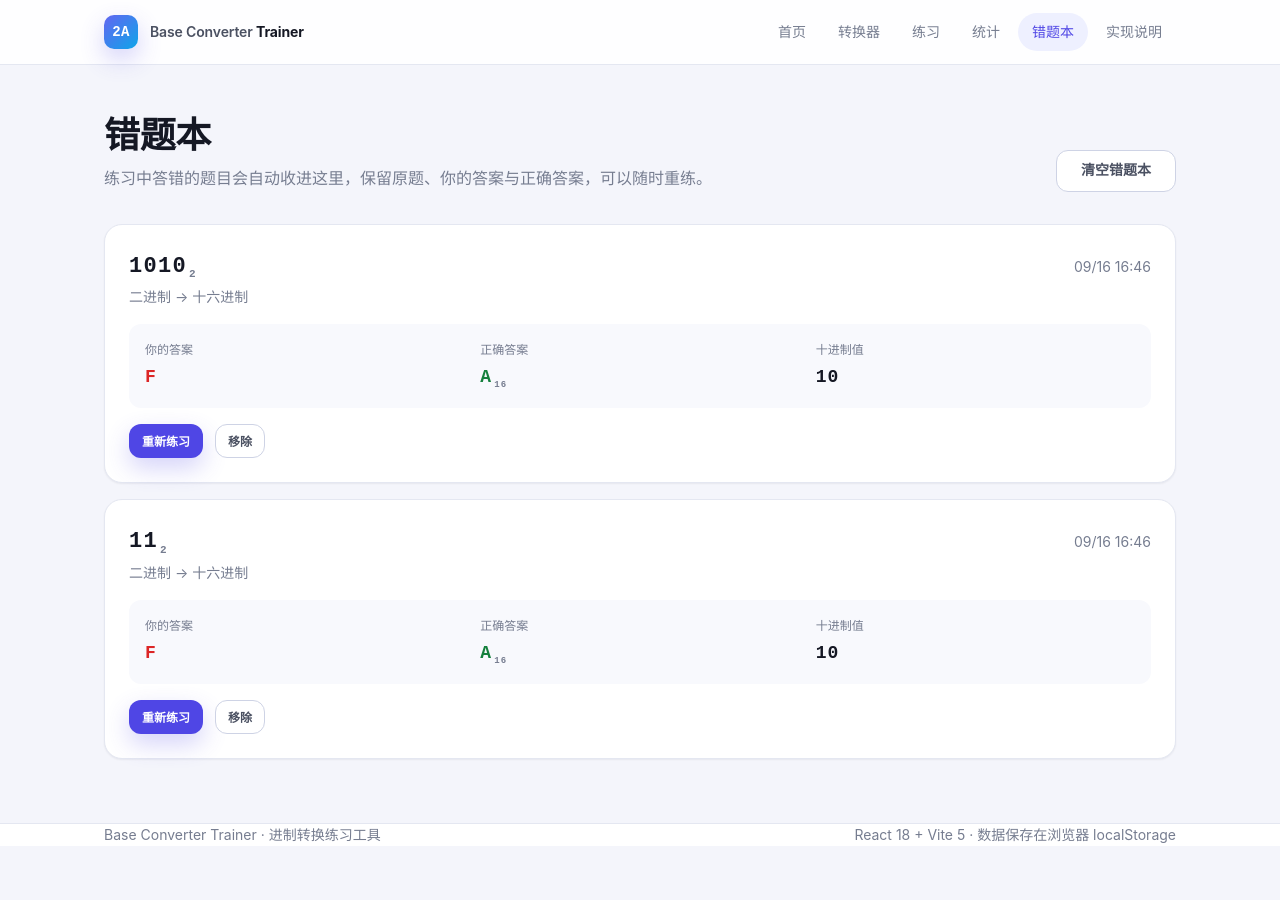
Test: 错题本 · 操作 › 确认清空后错题本与 localStorage 都清空
Click the button "清空错题本": (1116, 171) x1=1056 y1=150 x2=1176 y2=192
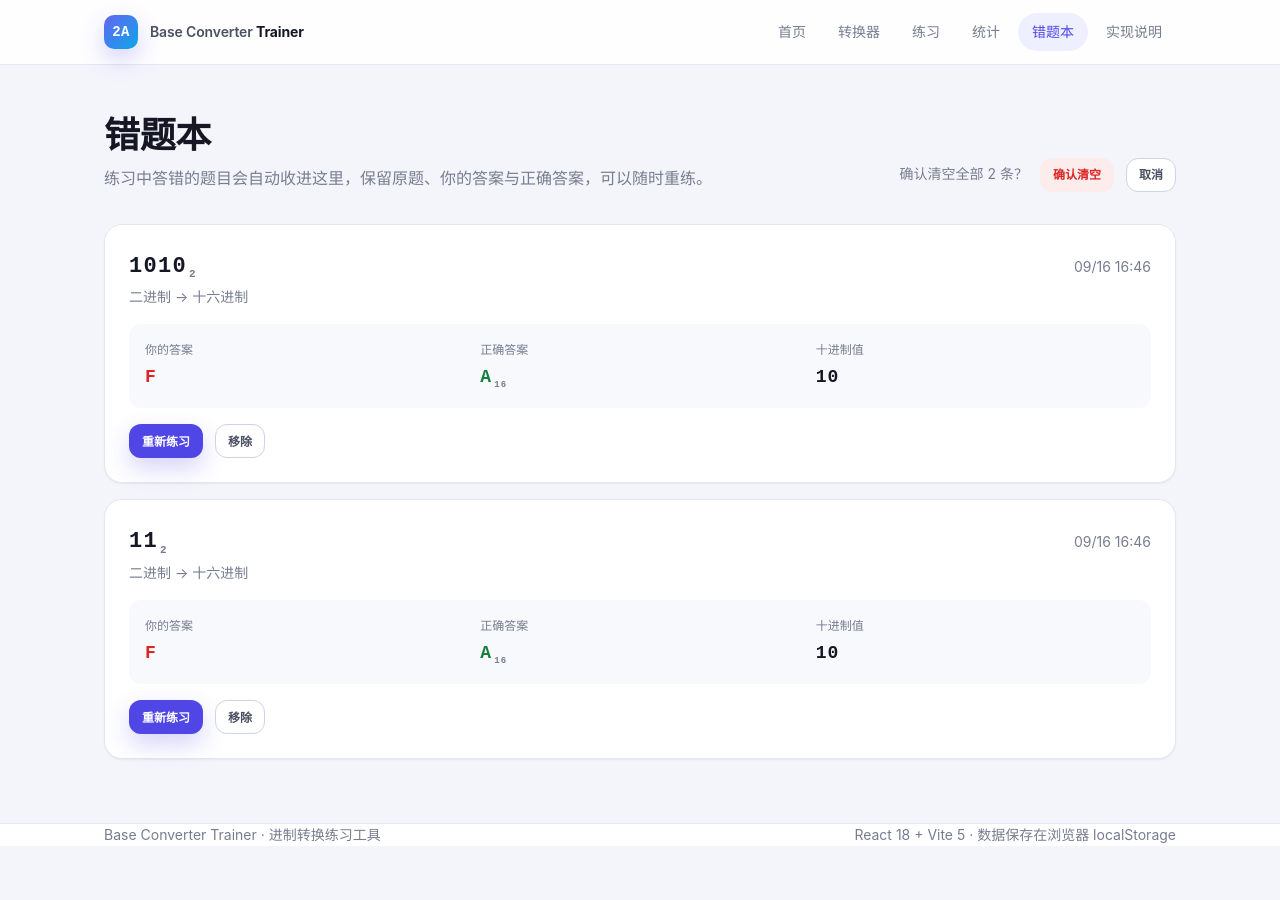
Click the button "确认清空": (1077, 175) x1=1040 y1=158 x2=1114 y2=192
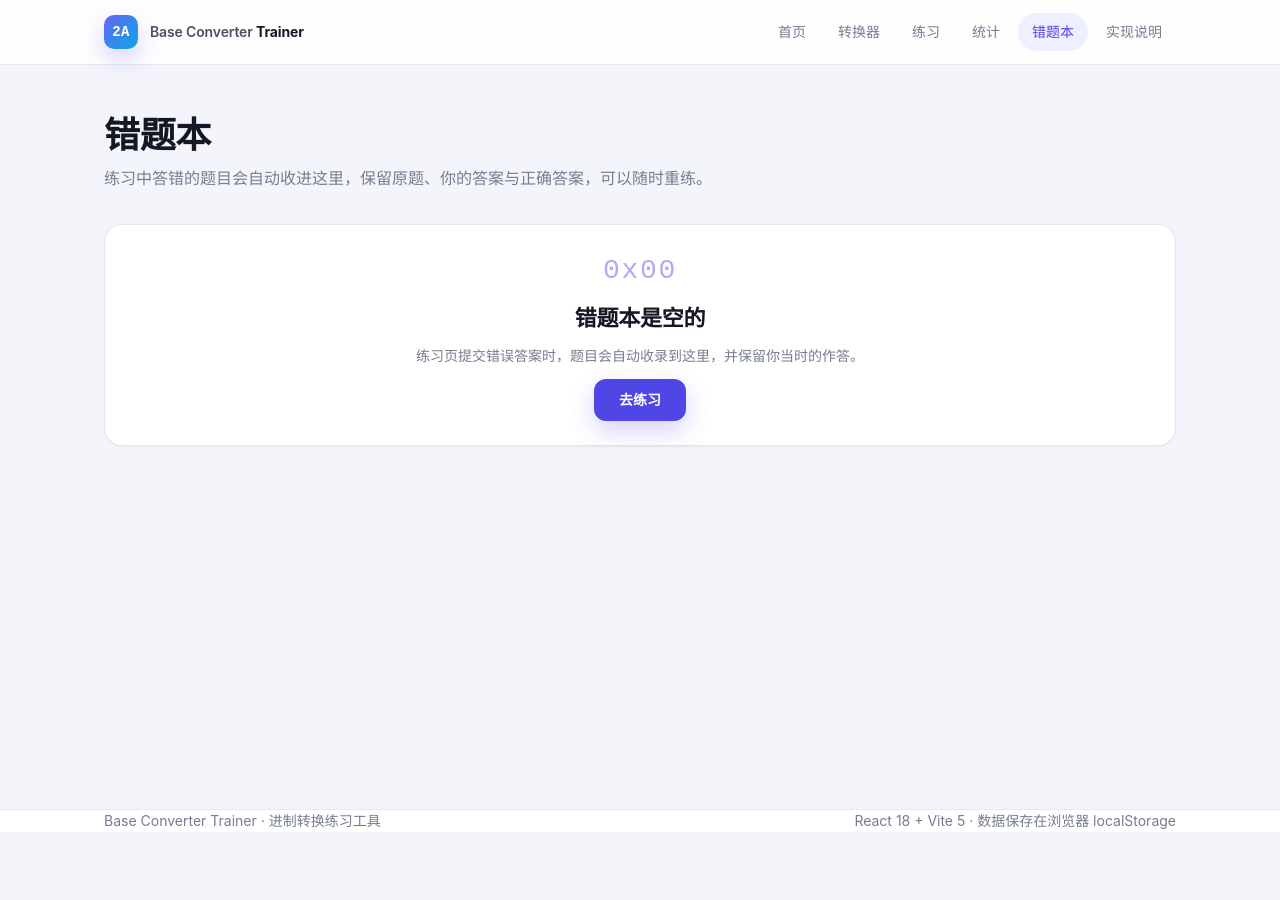
Now no list items with class "mistake-item" are shown
